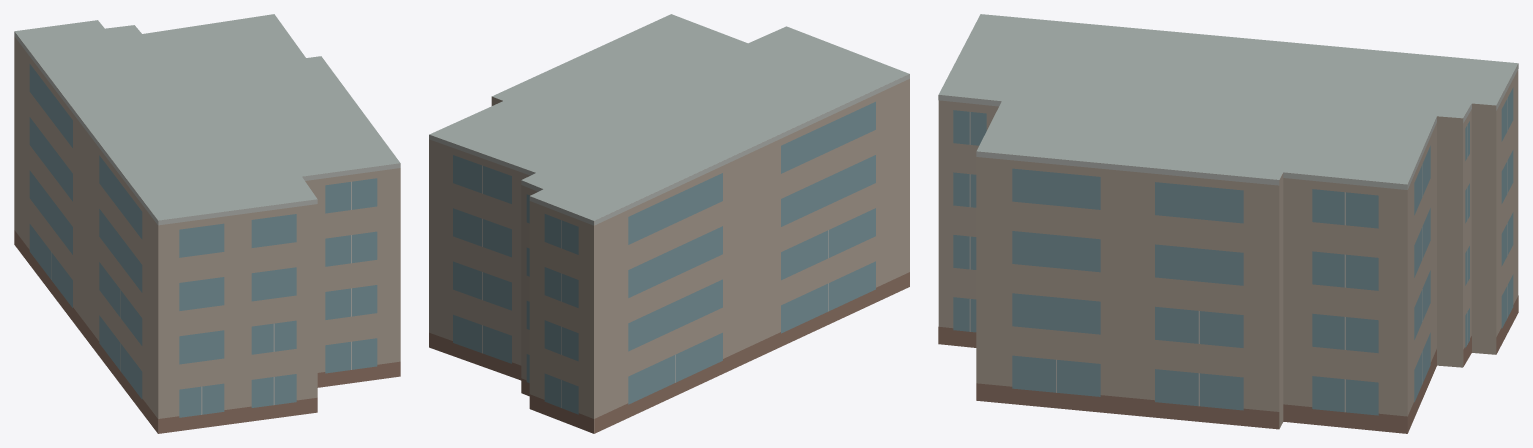
Rendered from survey-upis-32866899.glb.
3 views of the same model, side by side, from view 1: azimuth 30°, elevation 25°; view 2: azimuth 150°, elevation 25°; view 3: azimuth 270°, elevation 25° (orthographic). The views are drawn at different scales.
Parts seen in each view (by area): view 1: survey-upis-32866899.tmp; view 2: survey-upis-32866899.tmp; view 3: survey-upis-32866899.tmp.
Boxes of the visible parts, x1,y1,x2,y2 form: survey-upis-32866899.tmp: [14, 14, 400, 433]; survey-upis-32866899.tmp: [429, 14, 909, 433]; survey-upis-32866899.tmp: [938, 14, 1518, 433].
Bounding box in the file's own units: 16 × 10.9 × 22.99.
